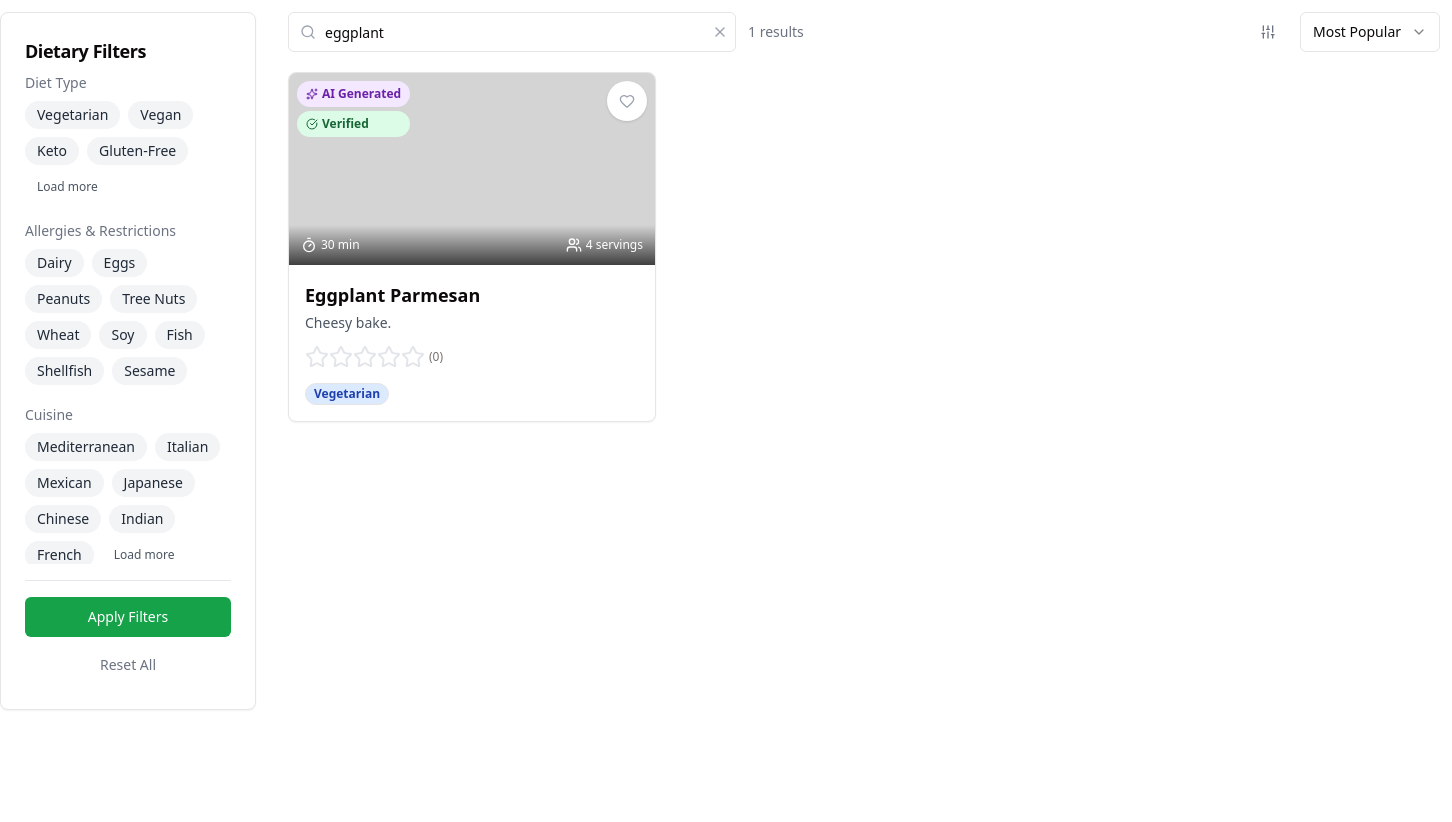
Test: RecipeBrowser › shows a clear button when the search has text and clears it on click
Expected: the field named "Search recipes" holds "eggplant", [288,12,736,52]
Step 1. Click the button named "Clear search" → point(720, 32), box [712,24,728,40]
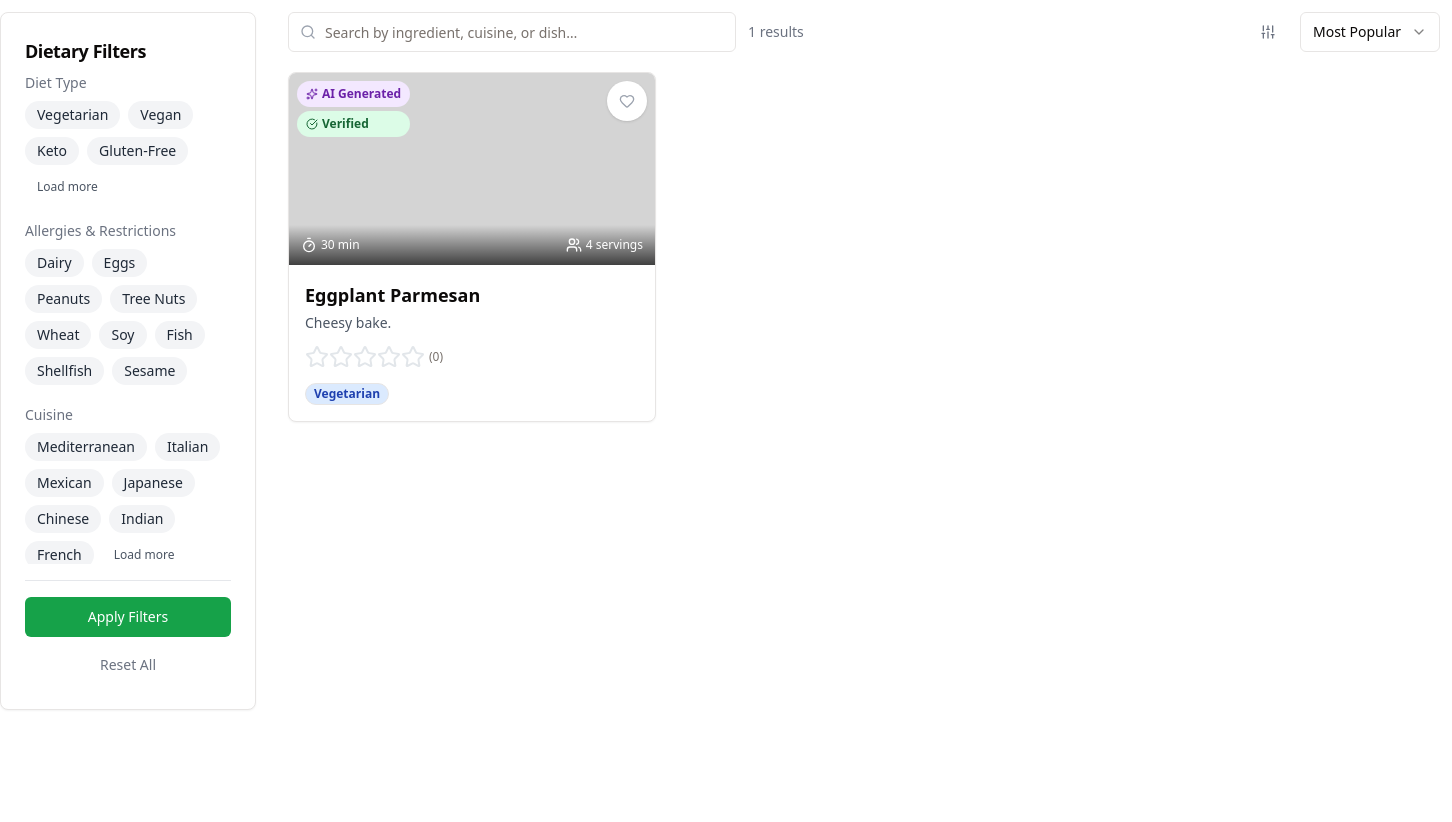
Expected: the field named "Search recipes" is empty, [288,12,736,52]
